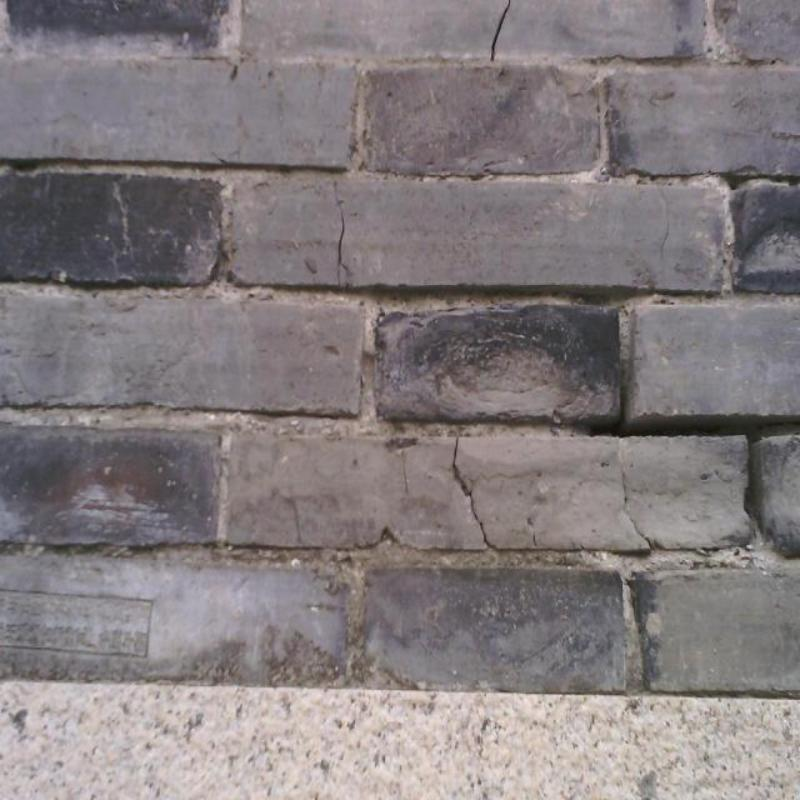pothole: (574, 386, 799, 535), (451, 437, 498, 549), (621, 464, 655, 549), (334, 183, 348, 284), (491, 0, 511, 60), (659, 189, 669, 260), (400, 455, 409, 492), (725, 178, 742, 190), (14, 164, 36, 170)
